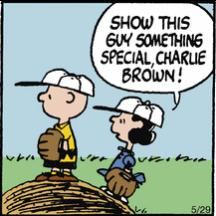charlie: (35, 65, 95, 181)
